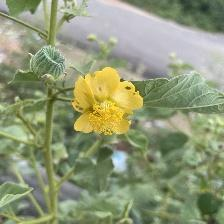indian mallow: (74, 67, 145, 138)
